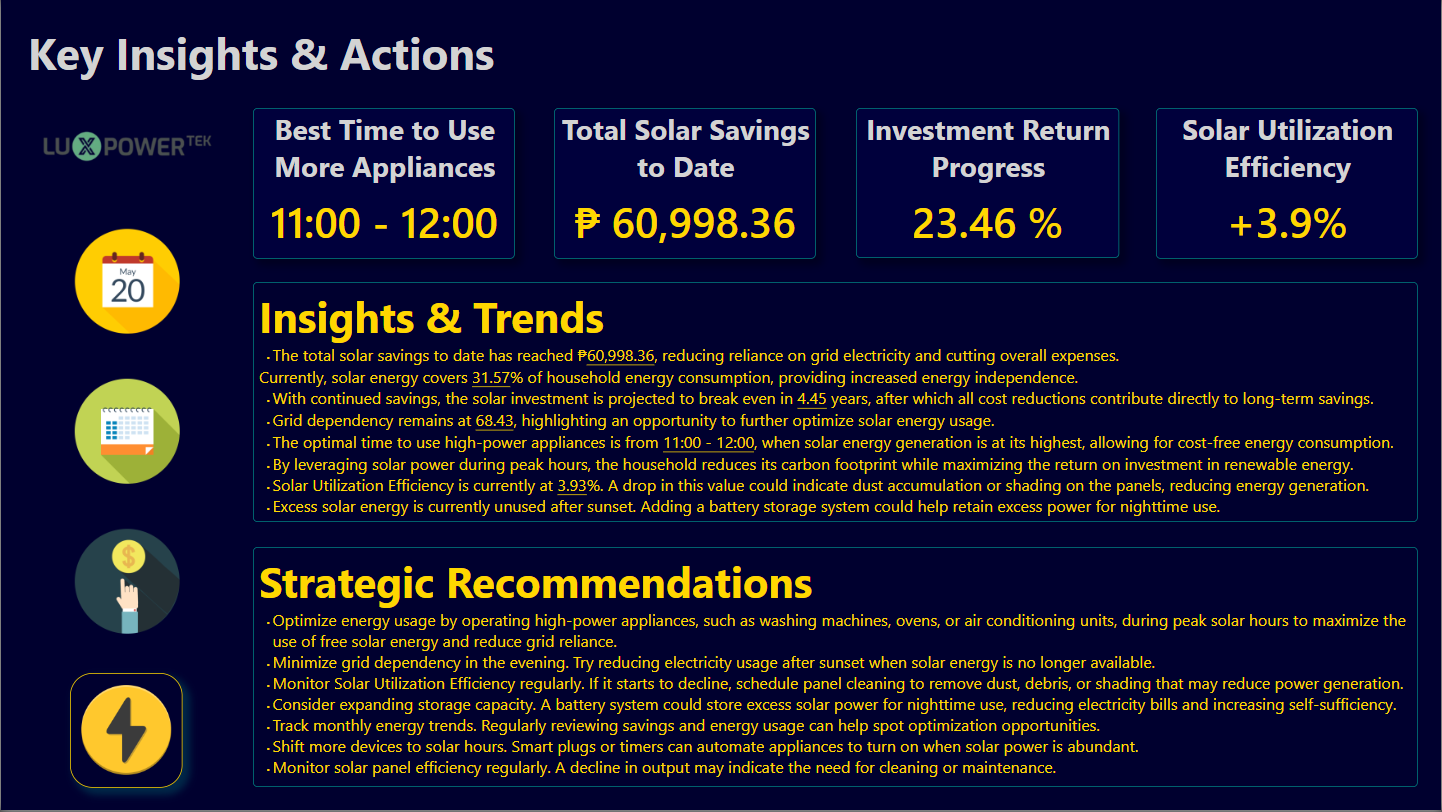

What the dashboard file says about the page in this screenshot:
{"tool":"powerbi","page":{"name":"Key Insights & Actions","canvas":[1920,1080],"ordinal":4},"visuals":[{"type":"textbox","box":[30,25,1300,90],"z":0},{"type":"image","box":[0,144.6,336,100],"z":1000},{"type":"image","box":[93.5,500,150.1,150.1],"z":2000},{"type":"image","box":[93.5,300,150.1,150.1],"z":3000},{"type":"image","box":[92.5,896.9,149.7,152.7],"z":4000},{"type":"image","box":[93.5,700,150.1,150.1],"z":5000},{"type":"textbox","box":[336.1,375.8,1553,320],"z":6000},{"type":"textbox","box":[336.1,729.5,1553,320],"z":7000},{"type":"card","title":"Solar Utilization Efficiency","fields":{"Values":["luxpower._Energy_Independence_Gain_Text"]},"box":[1539.8,143.9,349.4,201.1],"z":8000},{"type":"card","title":"Best Time to Use More Appliances","fields":{"Values":["luxpower._Optimal_Appliance_Usage_Time"]},"box":[336.1,143.9,349.4,201.1],"z":9000},{"type":"card","title":"Total Solar Savings to Date","fields":{"Values":["luxpower._Investment_Recovery_Progress_Text"]},"box":[736.9,143.9,349.4,201.1],"z":10000},{"type":"card","title":"Investment Return Progress","fields":{"Values":["luxpower._ROI_Progress_Text"]},"box":[1140.6,143.9,350.8,199.6],"z":11000}]}

Visuals, with their boxes in screenshot pixels (x1, y1, x2, y2), scaled from the page's 1920x1080 canvas onto the 1442x812 screenshot:
textbox: [23,19,999,86]
image: [0,109,252,184]
image: [70,376,183,489]
image: [70,226,183,338]
image: [69,674,182,789]
image: [70,526,183,639]
textbox: [252,283,1419,523]
textbox: [252,548,1419,789]
"Solar Utilization Efficiency" card: [1156,108,1419,259]
"Best Time to Use More Appliances" card: [252,108,515,259]
"Total Solar Savings to Date" card: [553,108,816,259]
"Investment Return Progress" card: [857,108,1120,258]
